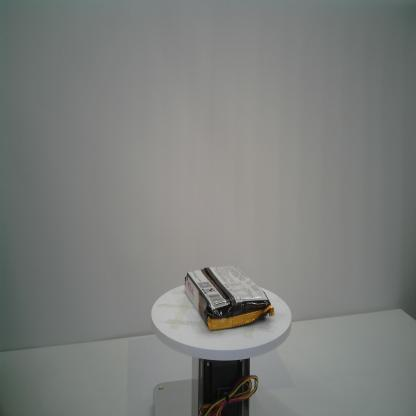Dessert: (183, 262, 278, 334)
